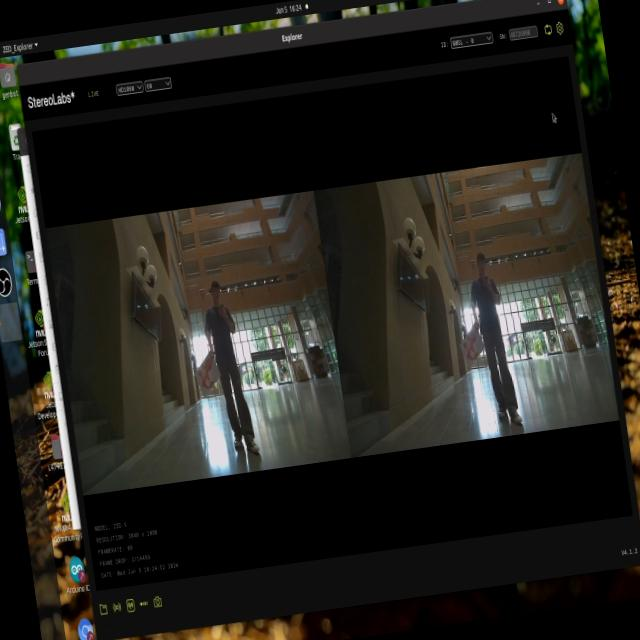red: (456, 328, 488, 365), (197, 354, 220, 387)
